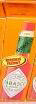grozi_98: (0, 0, 35, 103)
